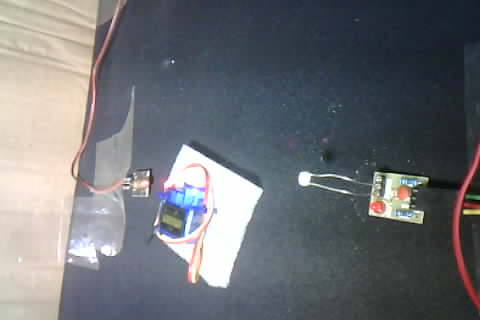motor: (148, 146, 243, 279)
